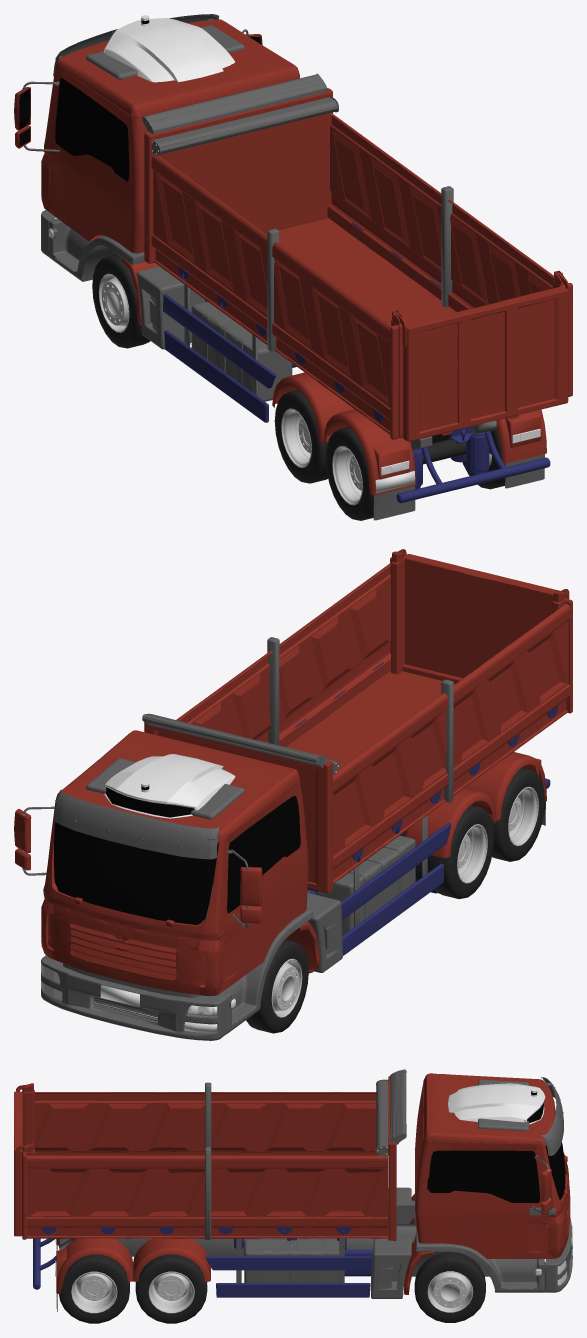
Rendered from maincar_truck.glb.
3 renders of one model, top to bottom at view 1: azimuth 30°, elevation 25°; view 2: azimuth 150°, elevation 25°; view 3: azimuth 270°, elevation 25°, orthographic. The views are drawn at different scales.
Parts seen in each view (by area): view 1: truck_car, truck_middle.001, truck_front_left, truck_back.001, truck_back.002; view 2: truck_car, truck_middle.001, truck_front_left, truck_back.001; view 3: truck_car, truck_front_right, truck_middle, truck_back.
Part boxes in pixels (x1=…): truck_car: x1=14, y1=14, x2=572, y2=520; truck_middle.001: x1=274, y1=389, x2=328, y2=483; truck_front_left: x1=92, y1=254, x2=150, y2=348; truck_back.001: x1=325, y1=427, x2=415, y2=520; truck_back.002: x1=423, y1=438, x2=465, y2=464; truck_car: x1=14, y1=549, x2=572, y2=1040; truck_middle.001: x1=415, y1=805, x2=494, y2=899; truck_front_left: x1=246, y1=939, x2=308, y2=1033; truck_back.001: x1=492, y1=768, x2=544, y2=861; truck_car: x1=14, y1=1069, x2=572, y2=1311; truck_front_right: x1=414, y1=1252, x2=485, y2=1322; truck_middle: x1=135, y1=1254, x2=207, y2=1323; truck_back: x1=59, y1=1254, x2=129, y2=1323.
Bounding box in the file's own units: 4.38 × 4.53 × 11.34.
